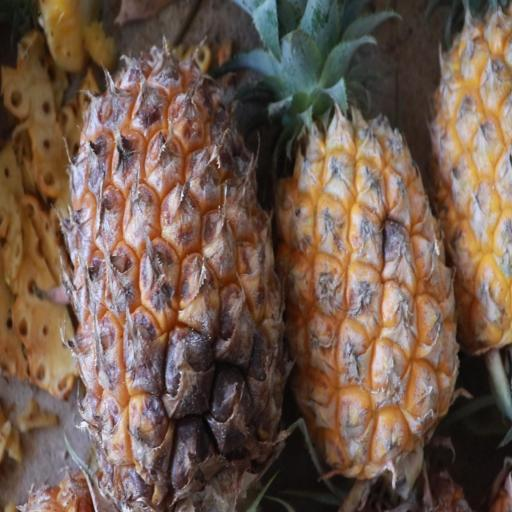Pineapple - v8 v1: (60, 32, 287, 507), (276, 35, 468, 496)
